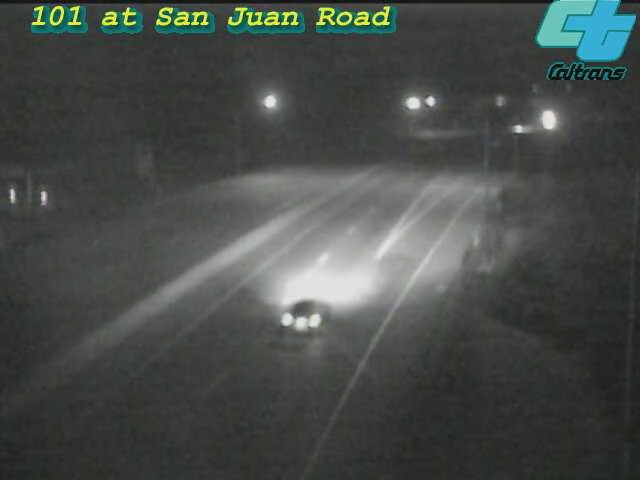vehicle: (266, 276, 346, 356), (494, 104, 544, 154), (526, 93, 576, 143)
